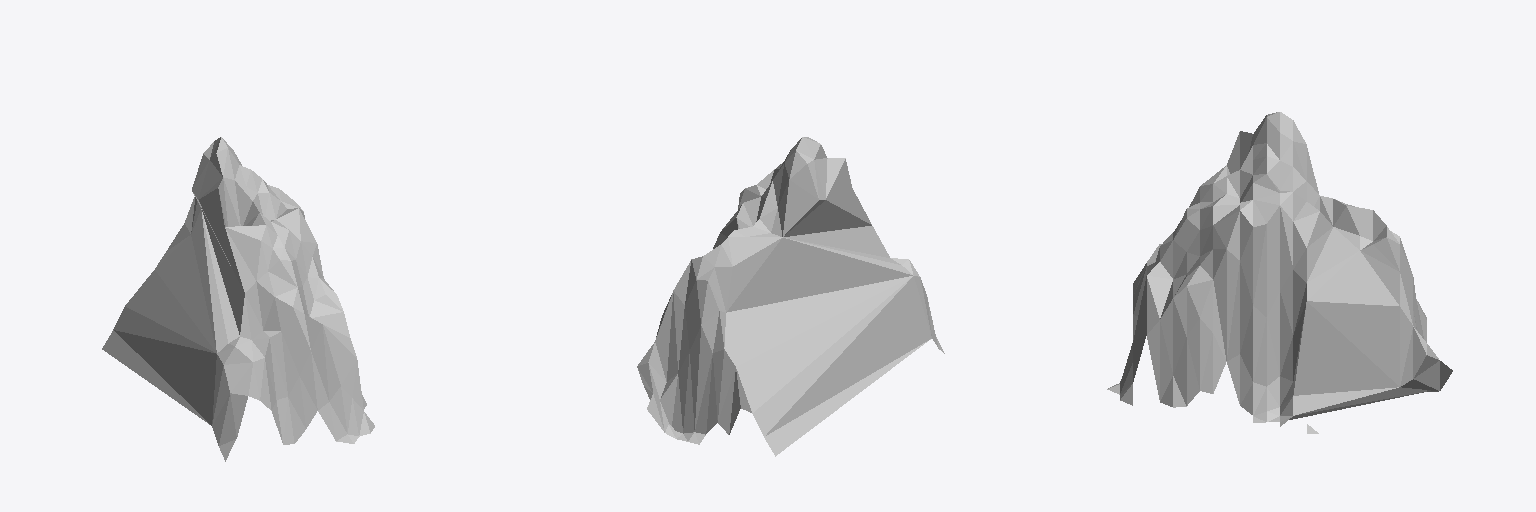
File: tree_43.obj
The picture shows the model from 3 angles: view 1: azimuth 30°, elevation 25°; view 2: azimuth 150°, elevation 25°; view 3: azimuth 270°, elevation 25°; orthographic projection.
Parts seen in each view (by area): view 1: tree_43.001; view 2: tree_43.001; view 3: tree_43.001.
Boxes of the visible parts, x1=… form: tree_43.001: x1=102, y1=137, x2=374, y2=461; tree_43.001: x1=637, y1=137, x2=944, y2=456; tree_43.001: x1=1107, y1=112, x2=1452, y2=433.
Bounding box in the file's own units: 18 × 21.12 × 26.